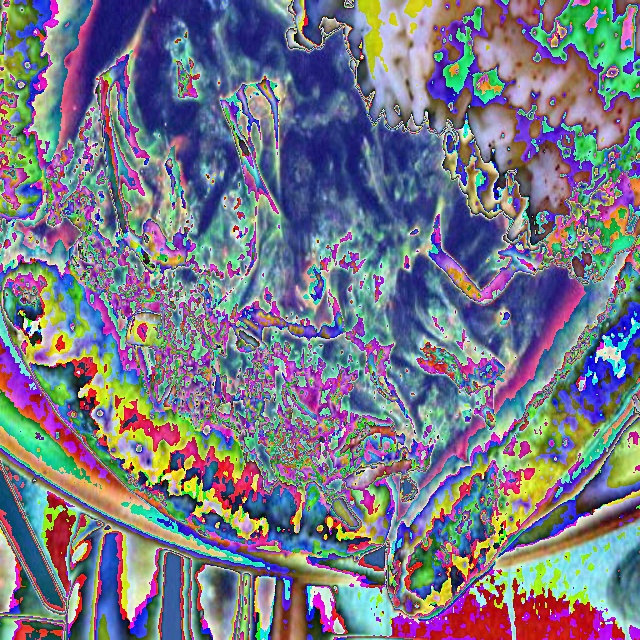background: (0, 0, 640, 621)
